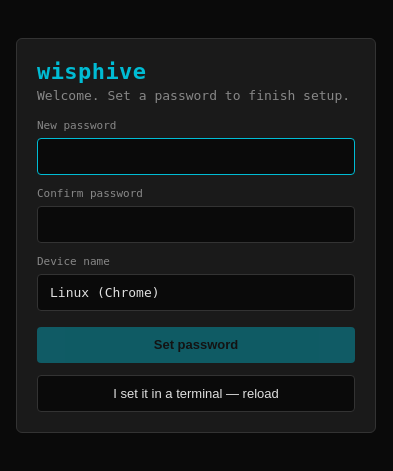
Test: Login — enroll-after-set-password step (prop-driven) › shows the custom password-floor error for a below-minimum setup password
Step 1. Type "shortpass" into the password field labelled "New password" → (196, 156), box [37,138,355,174]
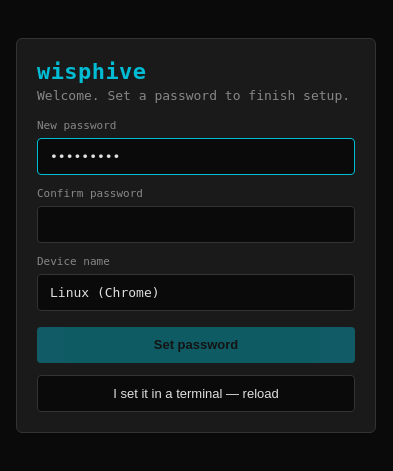
Step 2. Type "shortpass" into the password field labelled "Confirm password" → (196, 224), box [37,206,355,242]
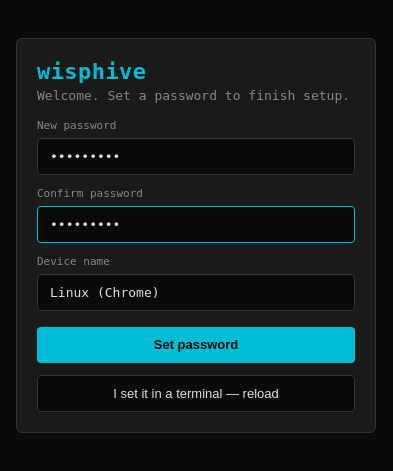
Step 3. Click the button "Set password" → click(196, 344), box [37,326,355,362]
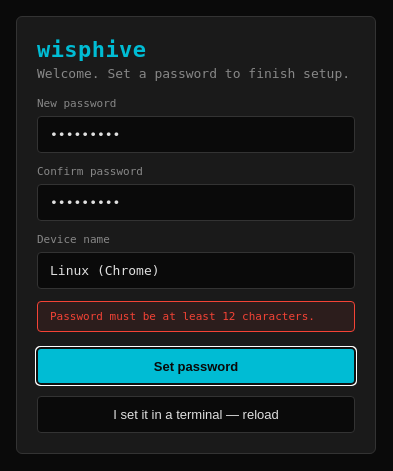
Result: the message reads "Password must be at least 12 characters." at [50,310,315,323]
